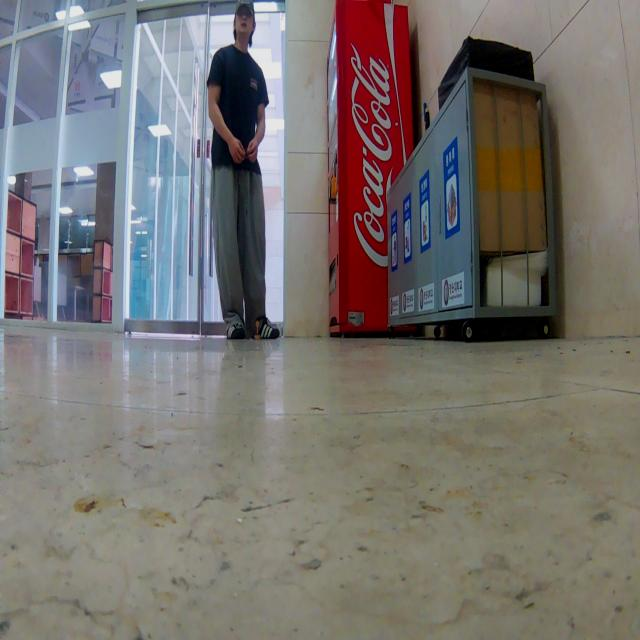target: (253, 319, 262, 341)
